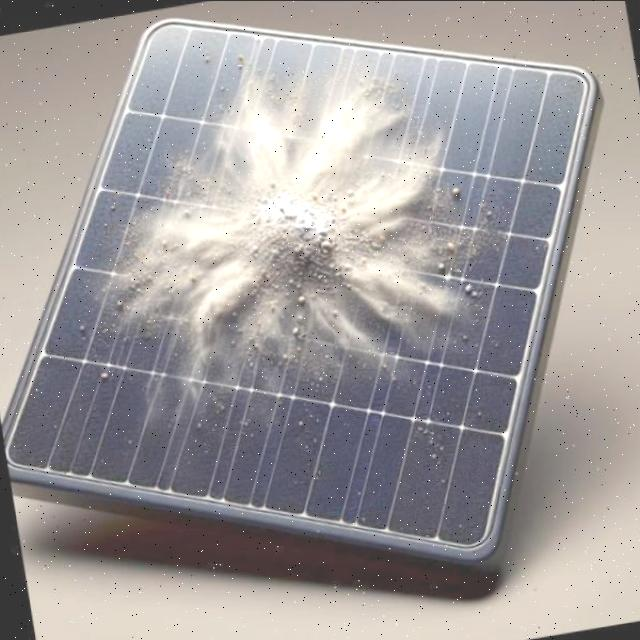Anomaly Solar Panel: (0, 5, 587, 553)
Surface Contaminant: (15, 0, 577, 565)
